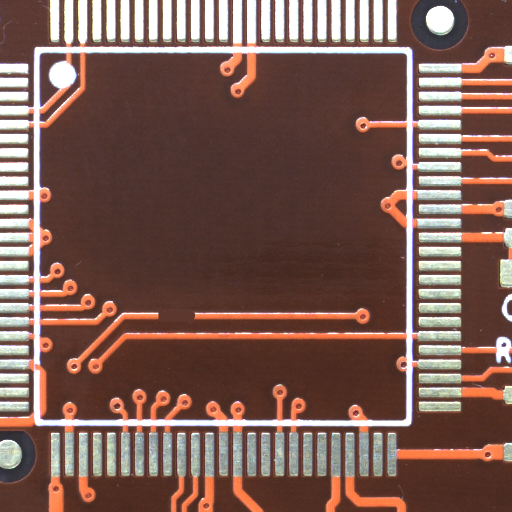Open_circuit: (176, 314, 215, 331)
